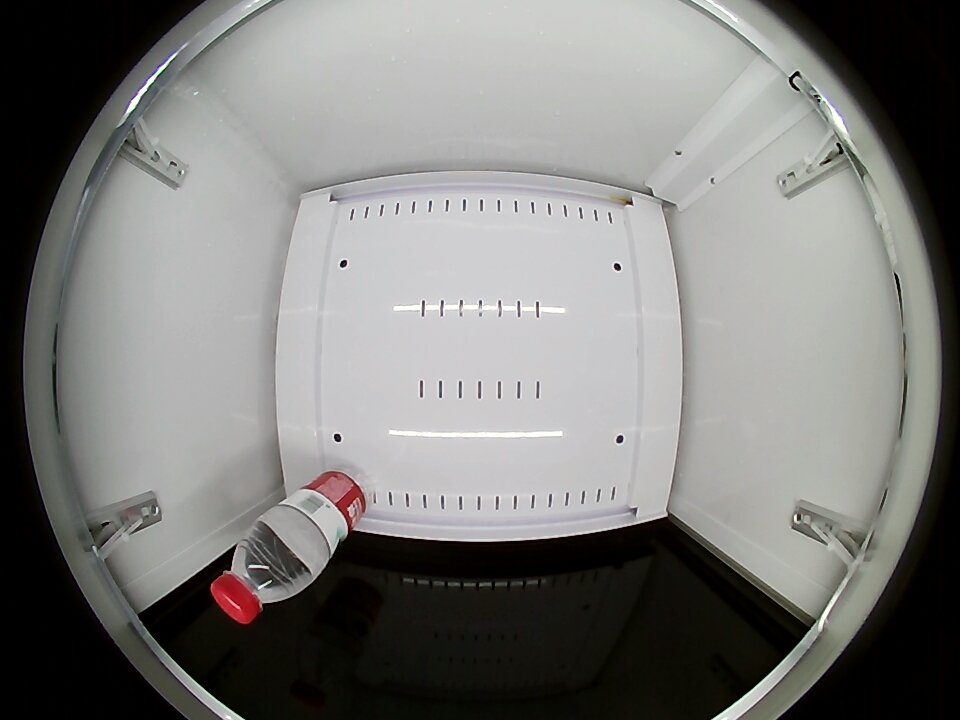nongfushanquan: (211, 521, 315, 624)
